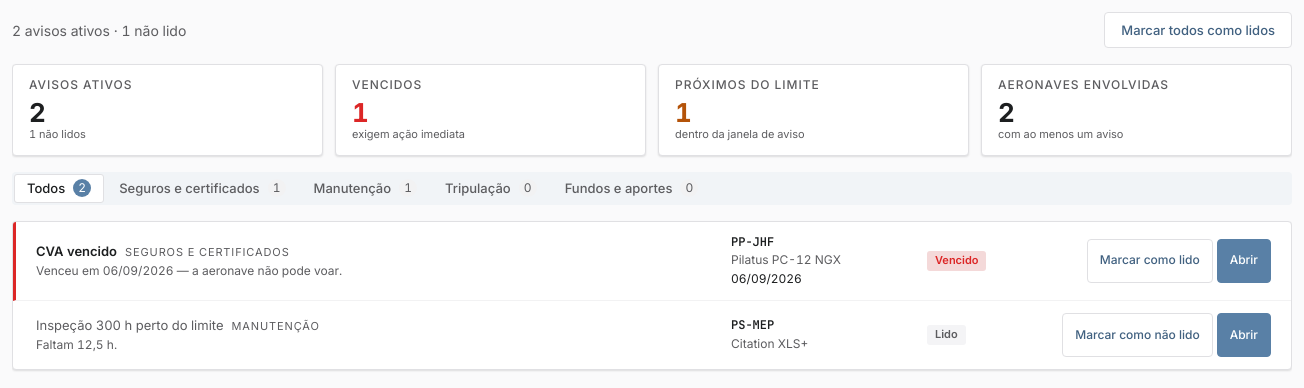
PaginaDeAvisos › o chip filtra por categoria
The width and height of the screenshot is (1304, 388).
Click the tab "Manutenção 1": [365, 188] box [301,174,430,203]
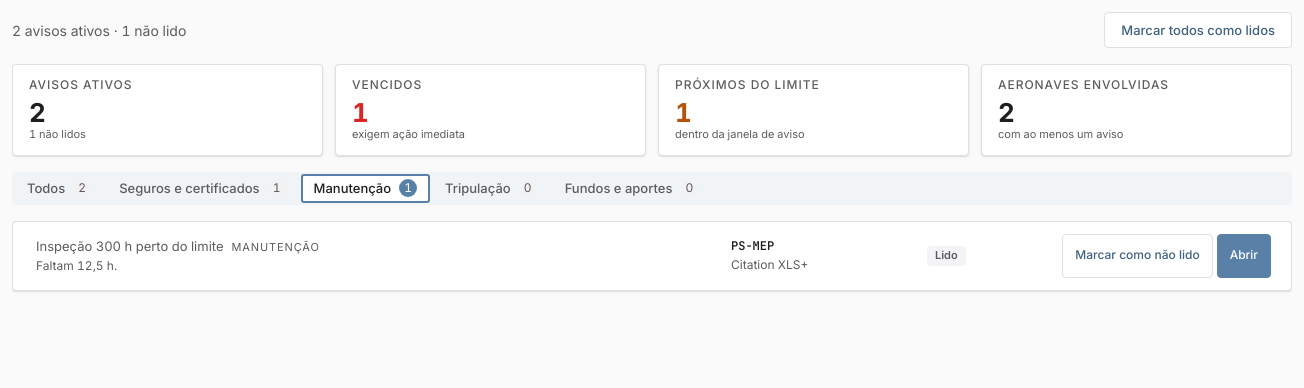
Expected: the text "Inspeção 300 h perto do limite" is shown, [36,237,224,256]
Expected: the text "CVA vencido" is gone
